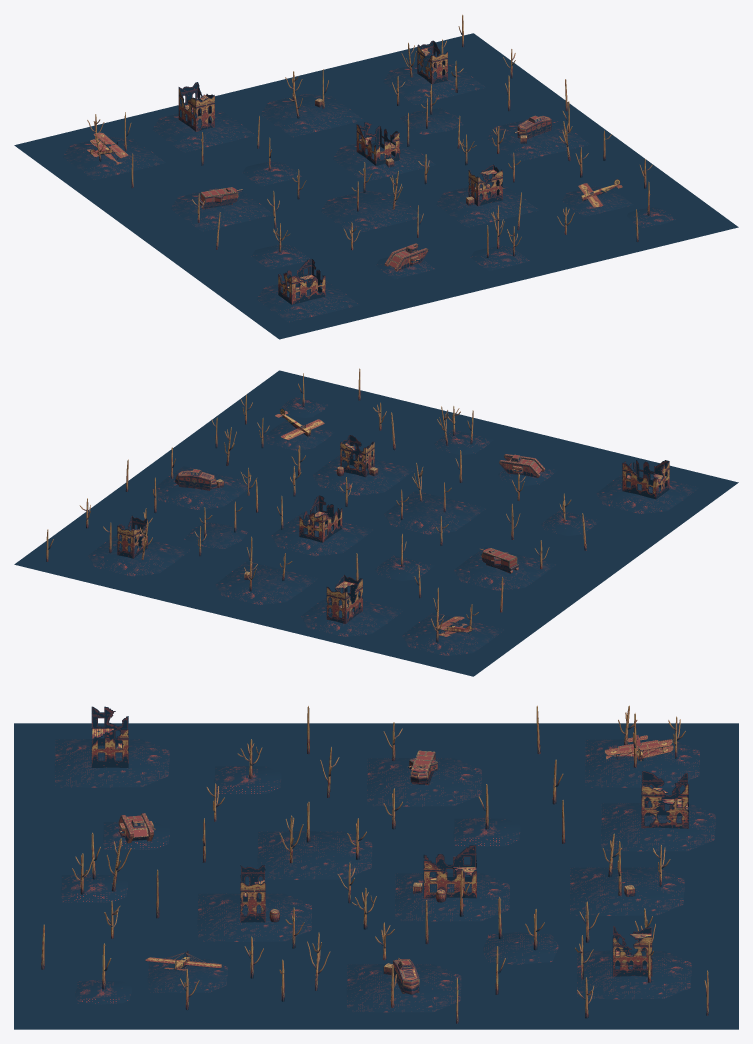
File: map.gltf
3 renders of one model, top to bottom at view 1: azimuth 30°, elevation 25°; view 2: azimuth 150°, elevation 25°; view 3: azimuth 270°, elevation 25°, orthographic. The views are drawn at different scales.
Parts seen in each view (by area): view 1: ground, mounds.003, mounds.008, mounds.013, mounds, mounds.012, mounds.005, mounds.007, mounds.001, mounds.002, mounds.011, props.029 (+17 smaller); view 2: ground, mounds.003, mounds.008, mounds.013, mounds.012, mounds.005, mounds.001, mounds.007, mounds, mounds.002, mounds.011, props.029 (+17 smaller); view 3: ground, mounds.008, mounds.003, mounds.005, mounds.001, mounds.007, mounds.011, mounds, mounds.012, mounds.013, mounds.002, props.062 (+18 smaller).
Boxes of the visible parts, box(x1,y1,x2,y2) form: ground: box(14, 33, 738, 339); mounds.003: box(321, 190, 423, 234); mounds.008: box(260, 93, 363, 137); mounds.013: box(63, 136, 165, 180); mounds: box(152, 109, 255, 152); mounds.012: box(383, 62, 485, 104); mounds.005: box(170, 188, 273, 231); mounds.007: box(487, 119, 590, 161); mounds.001: box(436, 184, 538, 227); mounds.002: box(333, 139, 435, 181); mounds.011: box(256, 279, 359, 322); props.029: box(278, 258, 325, 304); ground: box(14, 370, 738, 676); mounds.003: box(383, 490, 486, 534); mounds.008: box(215, 561, 318, 604); mounds.013: box(402, 612, 504, 655); mounds.012: box(88, 534, 190, 576); mounds.005: box(453, 547, 556, 590); mounds.001: box(312, 453, 415, 495); mounds.007: box(152, 466, 254, 509); mounds: box(300, 597, 403, 636); mounds.002: box(271, 512, 373, 555); mounds.011: box(596, 473, 699, 513); props.029: box(622, 460, 669, 499); ground: box(14, 723, 738, 1029); mounds.008: box(570, 867, 684, 915); mounds.003: box(257, 831, 372, 879); mounds.005: box(367, 758, 481, 806); mounds.001: box(197, 893, 311, 941); mounds.007: box(346, 964, 461, 1012); mounds.011: box(54, 739, 169, 787); mounds: box(601, 803, 715, 851); mounds.012: box(577, 950, 691, 999); mounds.013: box(585, 739, 699, 787); mounds.002: box(395, 873, 509, 921); props.062: box(641, 771, 688, 828).
Bounding box in the file's own units: 301 × 29.66 × 301.
2 materials, 2 textured.
